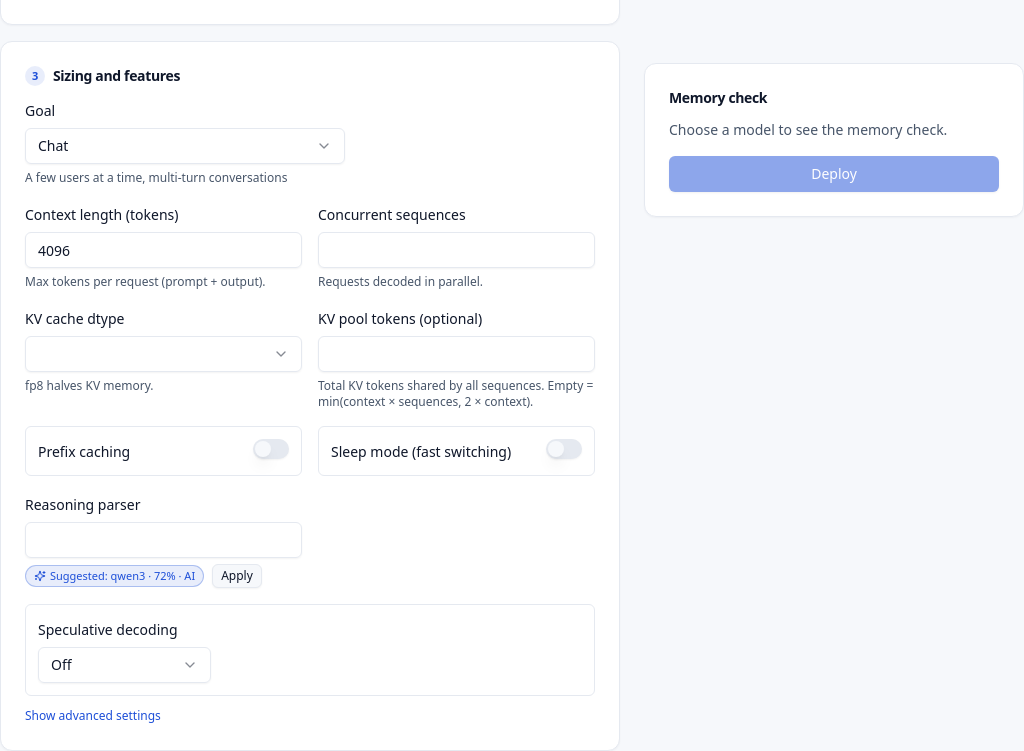
DeployWizard — parser suggestions › offers Apply instead of auto-filling below the auto-apply bar
(page scrolled)
Check: the text "Suggested: qwen3 · 72% · AI" is shown, box [25,565,204,587]
Check: the field labelled "Reasoning parser" is empty, box [25,522,302,558]
Click the button with aria-label "Apply suggested Reasoning parser: qwen3". click: (237,576)
box: [212,564,262,588]
(page scrolled)
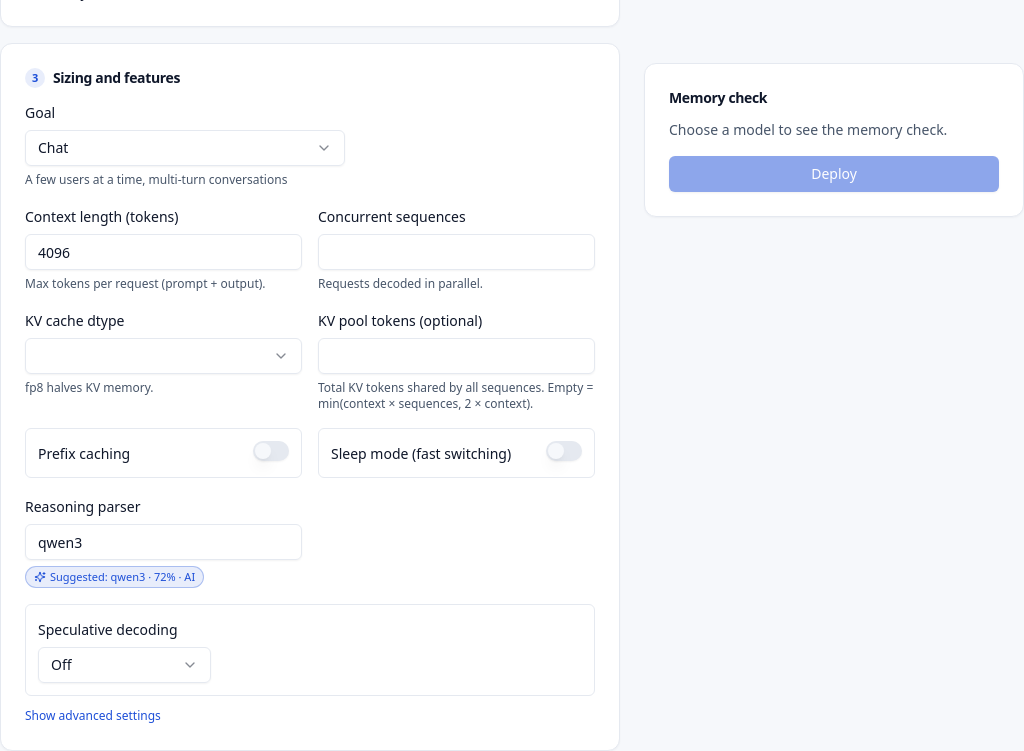
Check: the field labelled "Reasoning parser" holds "qwen3", box [25,524,302,560]
